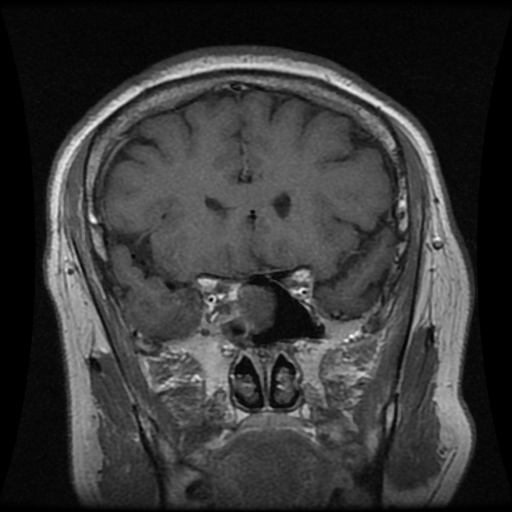pituitary: (228, 285, 274, 330)
